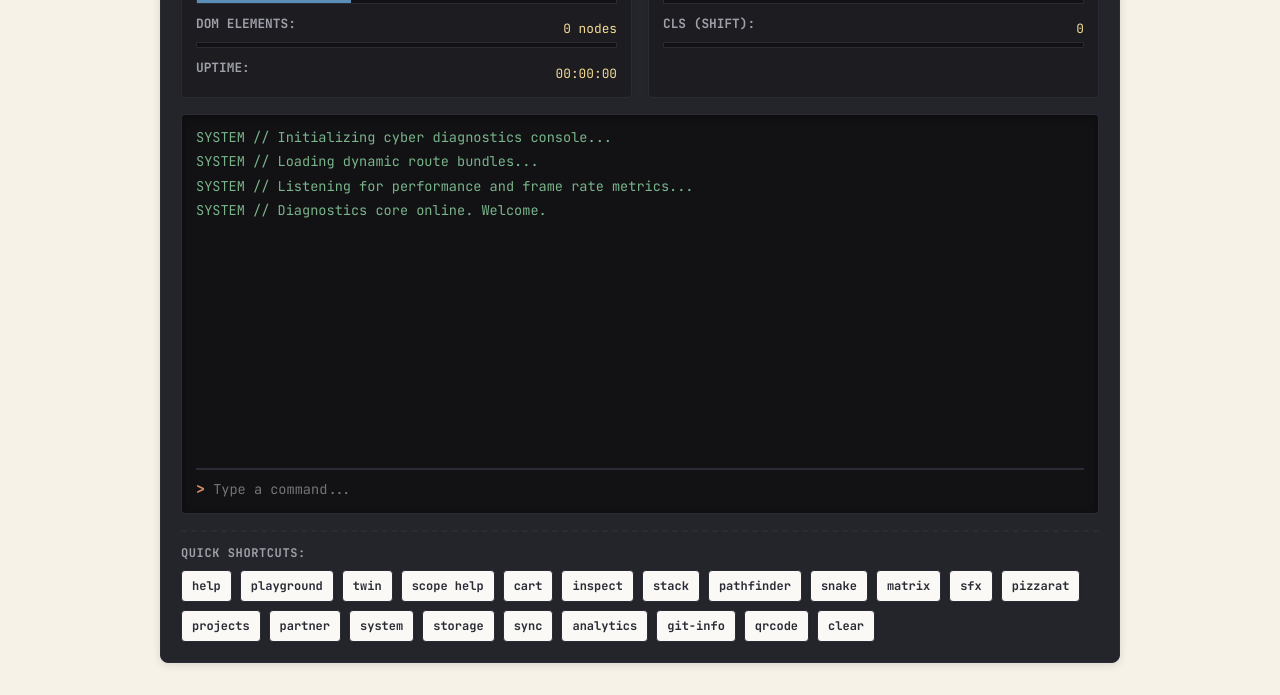
Test: SiteInfoConsole Component (Decomposed Architecture) › executes the "tests" command and prints automated test suite metrics
(page scrolled)
In the field named "Terminal command prompt": (649, 489) [213,479,1084,500], type "tests"
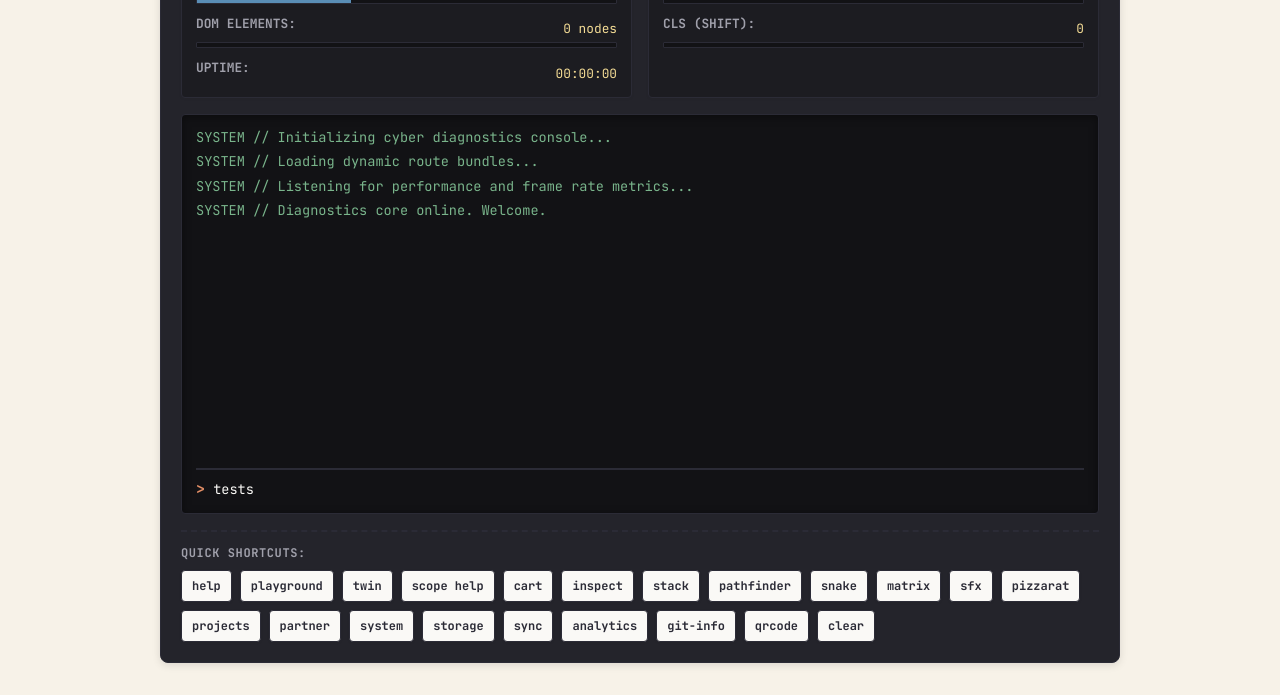
Press Enter in the field named "Terminal command prompt", box [213,479,1084,500]
(page scrolled)
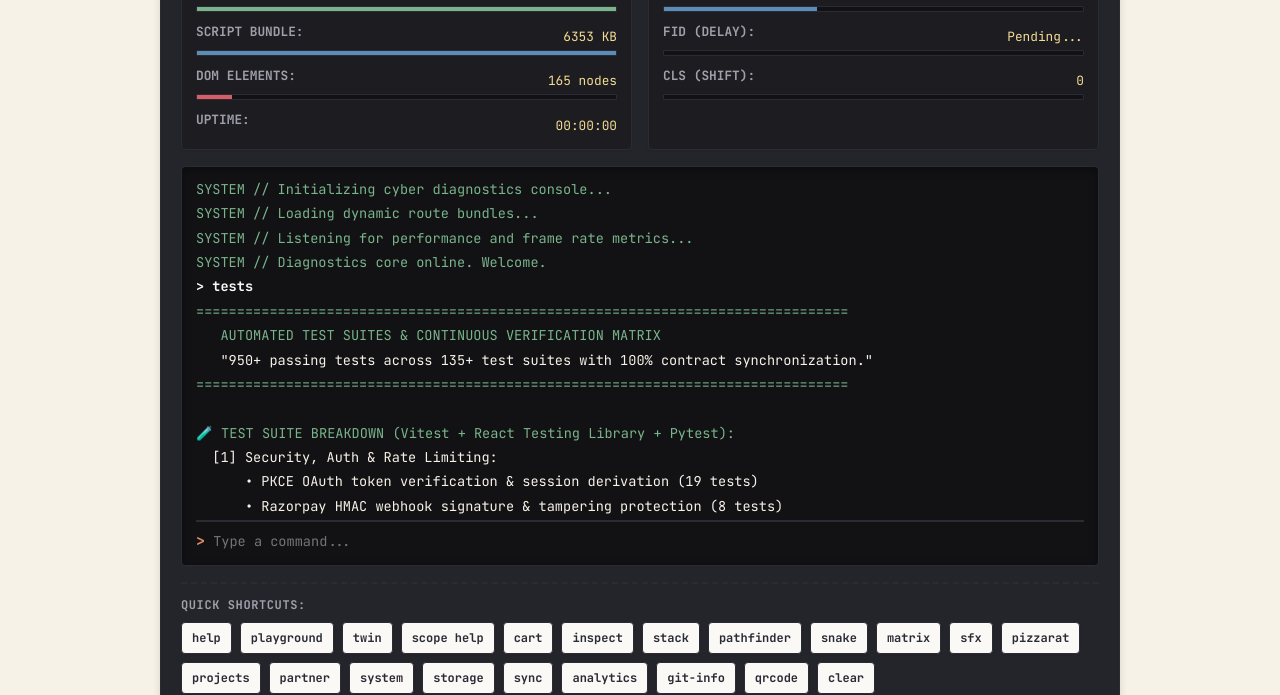
Check: the text "AUTOMATED TEST SUITES & CONTINUOUS VERIFICATION MATRIX" is shown, box [196,326,661,344]
